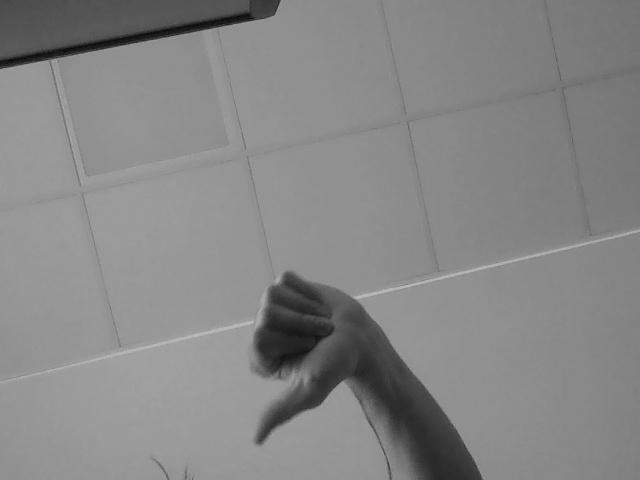bad: (251, 255, 395, 462)
